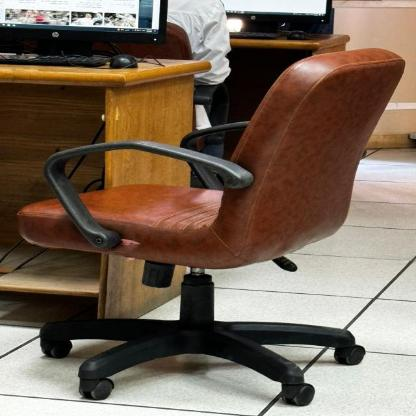chair: (17, 43, 410, 394)
